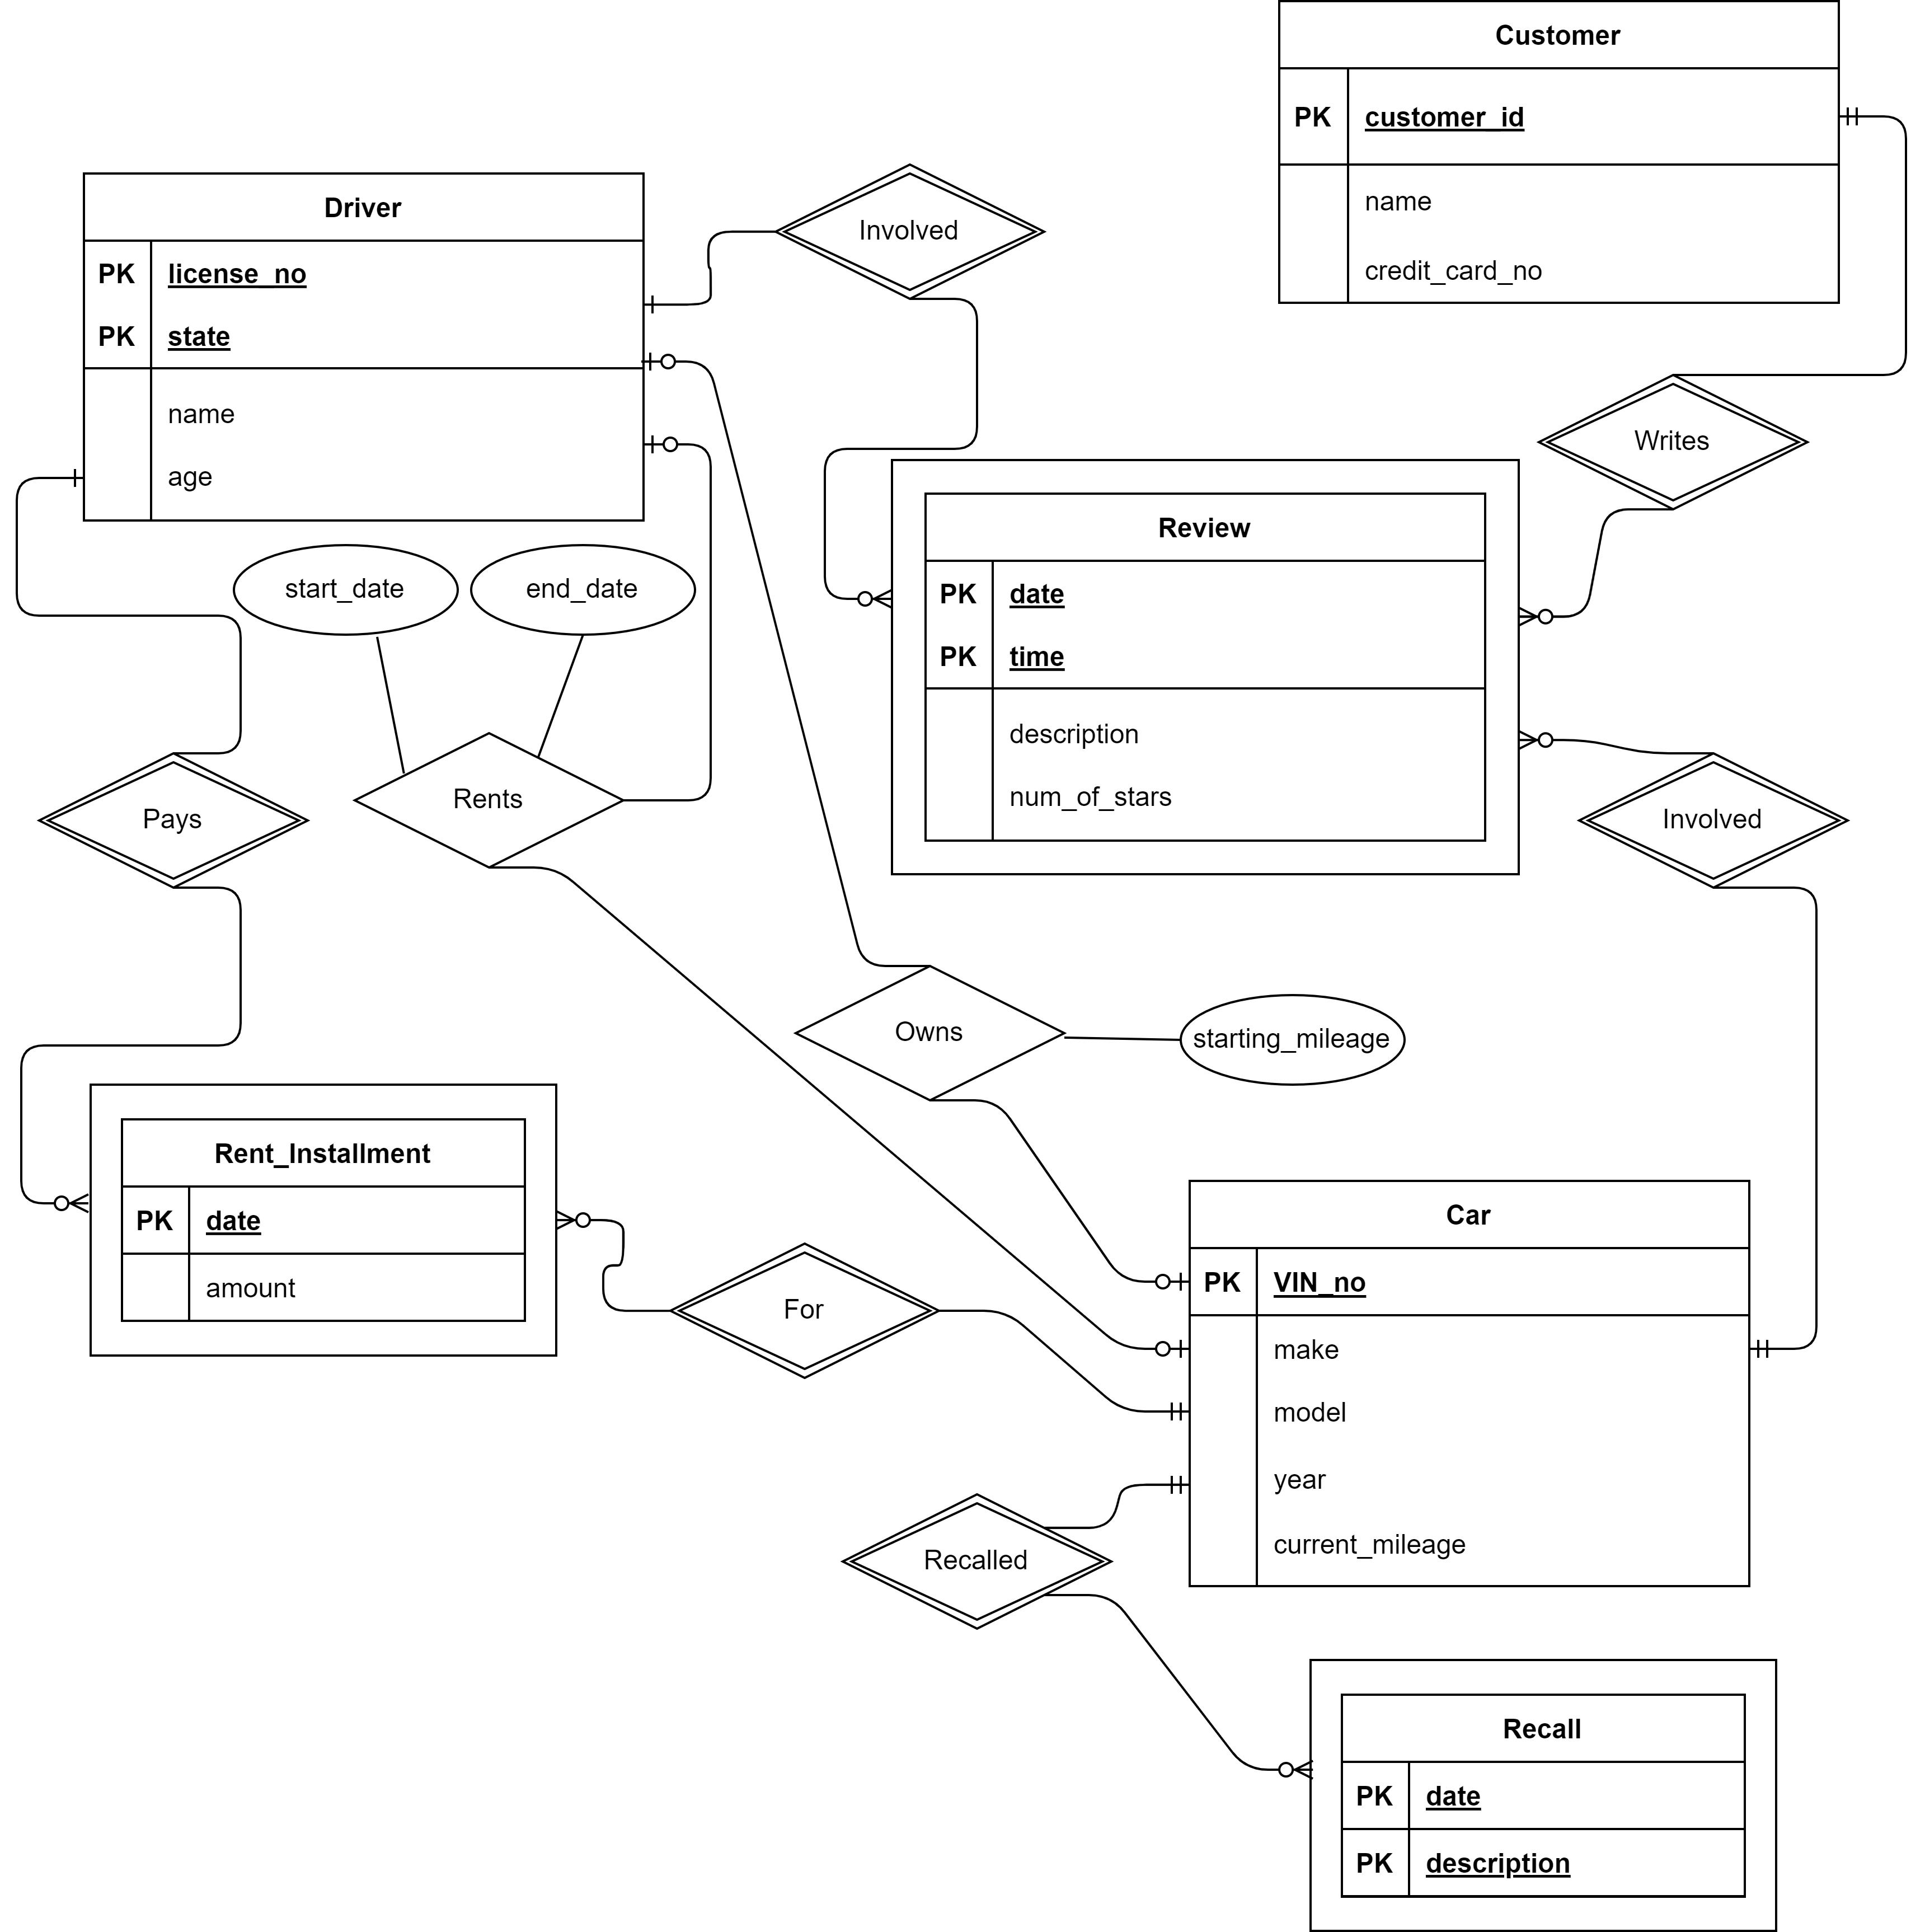attribute: (234, 539, 471, 638), (1176, 994, 1421, 1084), (472, 550, 695, 633)
entity: (1183, 1174, 1754, 1592), (76, 167, 656, 525), (1273, 0, 1849, 312)
relationship: (349, 733, 628, 871), (797, 964, 1063, 1103)
weakentity: (890, 446, 1527, 881), (83, 1081, 562, 1366), (1304, 1655, 1779, 1932)
weakrelationship: (769, 159, 1042, 307), (834, 1491, 1116, 1632), (1578, 749, 1846, 895), (37, 756, 307, 894), (663, 1243, 943, 1375), (1539, 377, 1810, 506)
